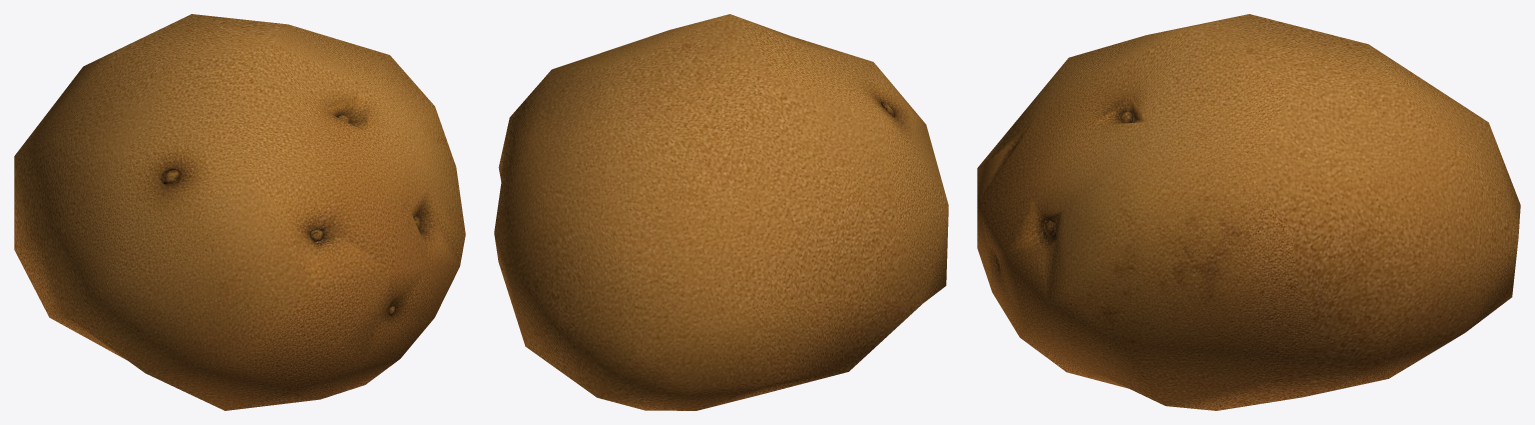
3 views of the same model, side by side, from view 1: azimuth 30°, elevation 25°; view 2: azimuth 150°, elevation 25°; view 3: azimuth 270°, elevation 25° (orthographic). The views are drawn at different scales.
Parts seen in each view (by area): view 1: tripo_node_8410aa6f-d443-42c3-884d-9a952bea3971; view 2: tripo_node_8410aa6f-d443-42c3-884d-9a952bea3971; view 3: tripo_node_8410aa6f-d443-42c3-884d-9a952bea3971.
Part boxes in pixels (left/top/right/bottom): tripo_node_8410aa6f-d443-42c3-884d-9a952bea3971: left=14, top=14, right=465, bottom=410; tripo_node_8410aa6f-d443-42c3-884d-9a952bea3971: left=494, top=14, right=948, bottom=410; tripo_node_8410aa6f-d443-42c3-884d-9a952bea3971: left=977, top=14, right=1520, bottom=410.
Size of the model in its own units: 0.8496 by 0.7168 by 0.998.
1 material, 1 textured.
